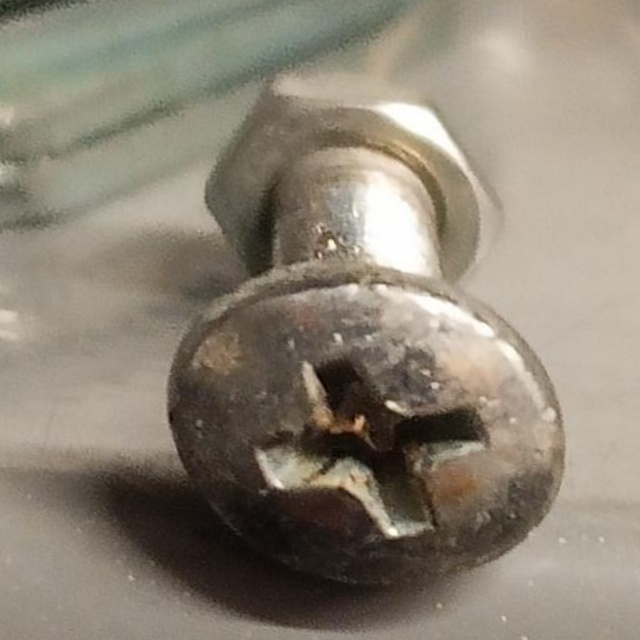phillips: (149, 268, 577, 596)
